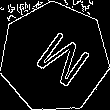M_SW: (21, 23, 88, 92)
